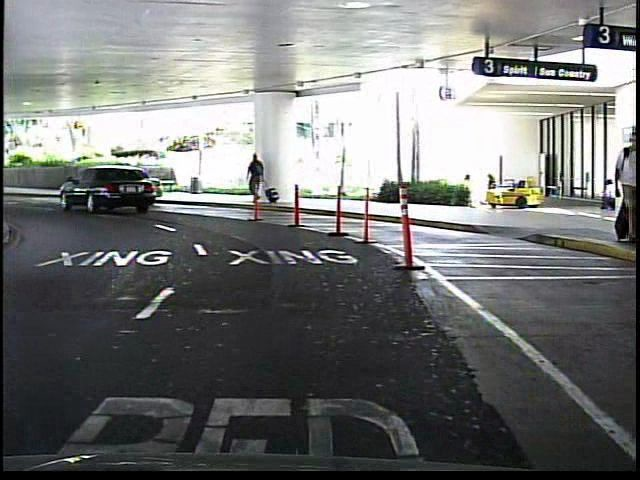person: (607, 114, 639, 246), (245, 151, 271, 209)
